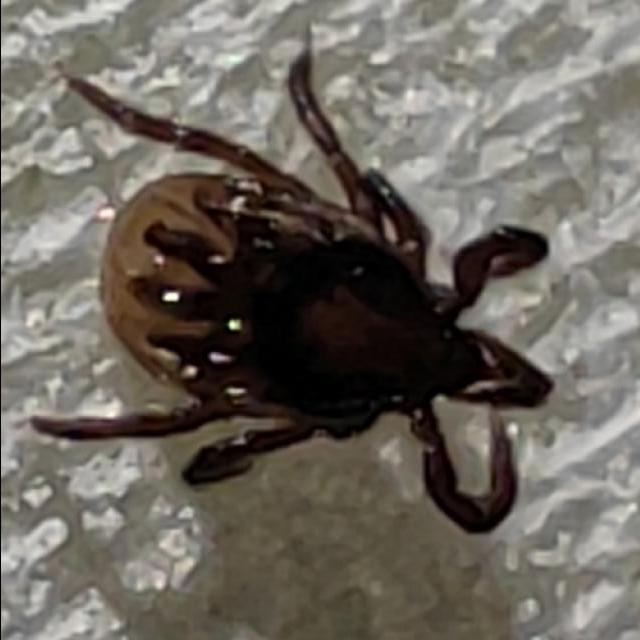Ixodes Ricinus-M: (24, 67, 553, 534)
